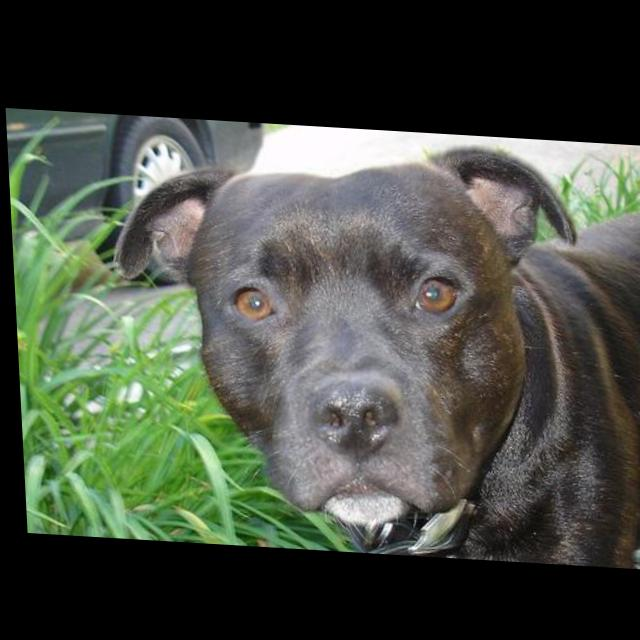amstaff: (104, 121, 640, 563)
